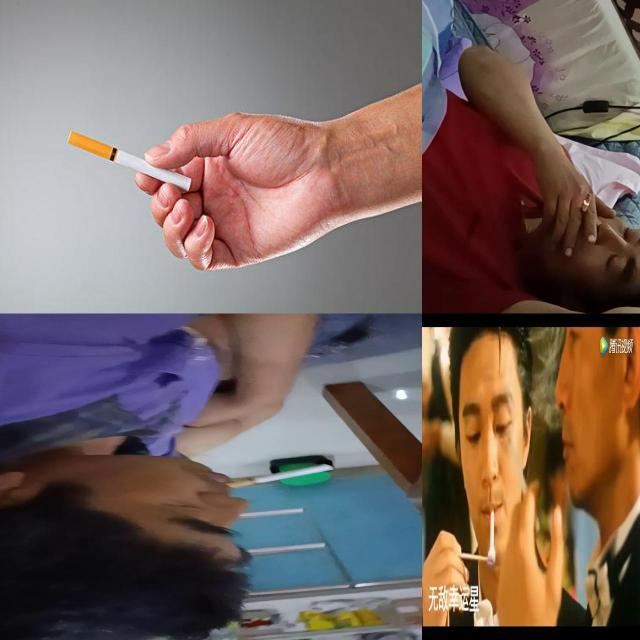cigarette: (66, 106, 362, 275), (528, 150, 612, 260), (226, 464, 334, 488), (490, 508, 494, 550)
